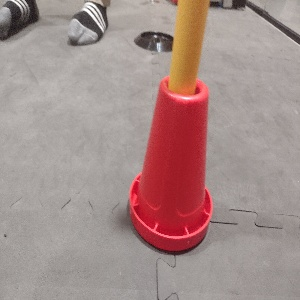Red_1: (127, 72, 214, 252), (169, 66, 170, 73)
